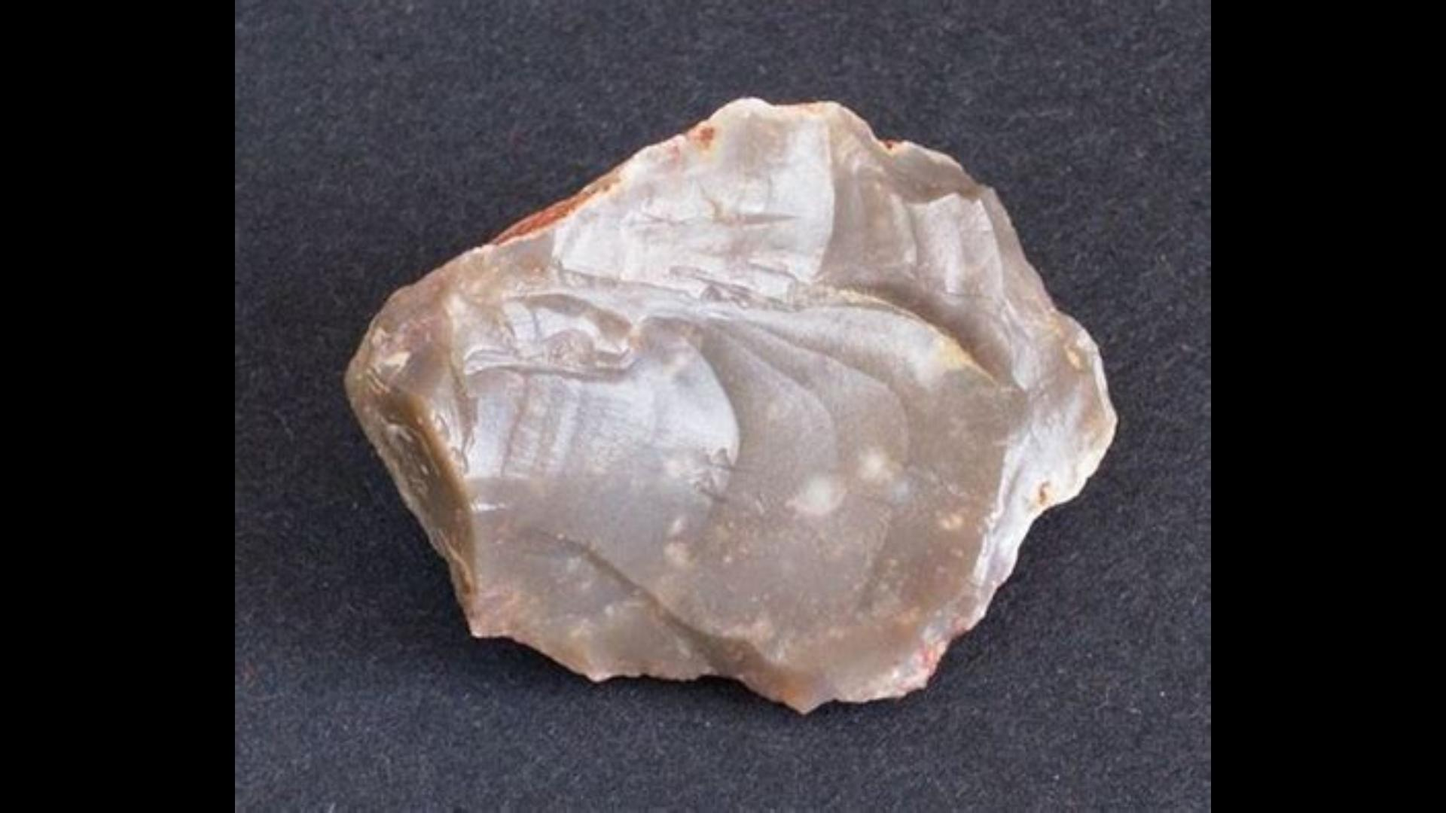rock: (350, 101, 1112, 708)
